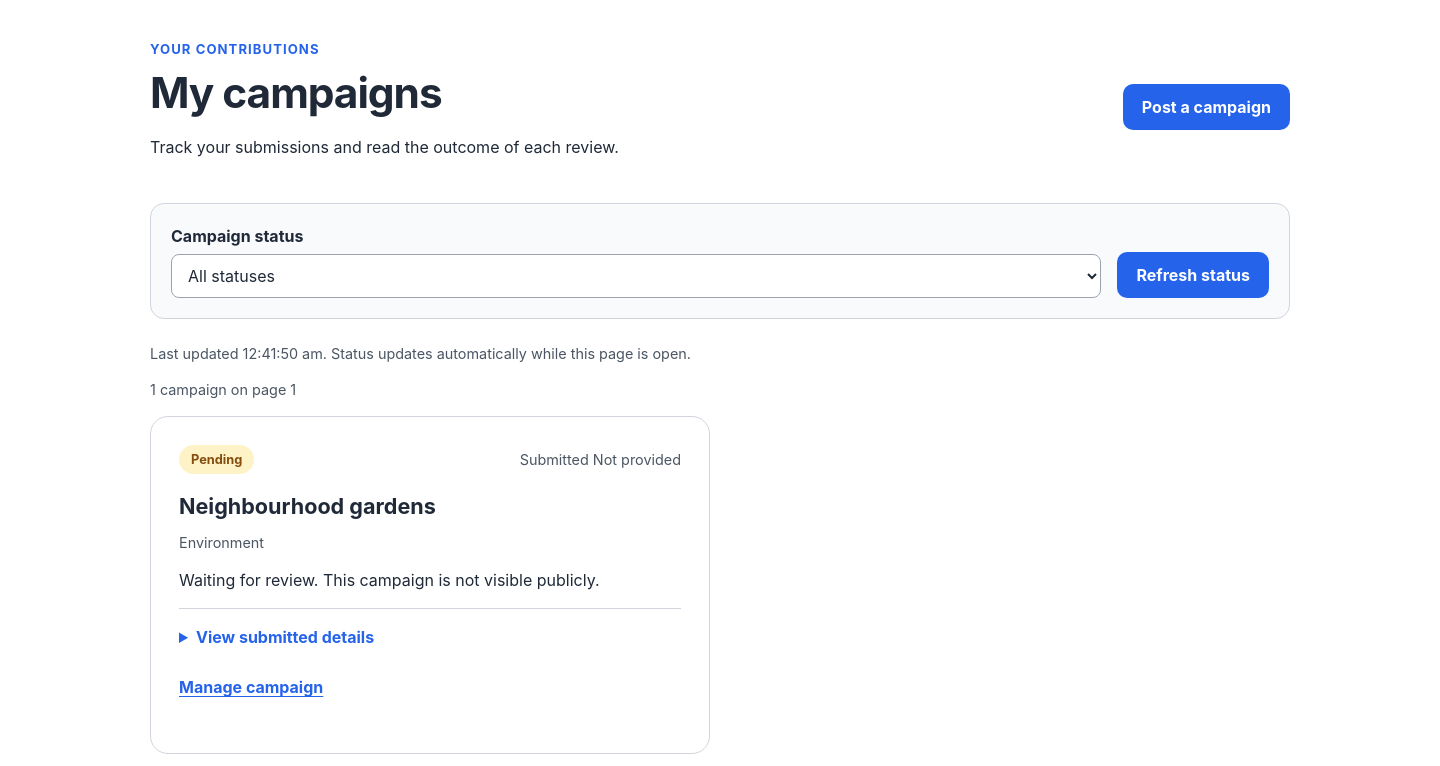
Test: owner campaign status › keeps prior campaigns during a network error but clears them on revoked access
Check: the heading "Neighbourhood gardens" is shown, box [179,493,436,519]
Click the button "Refresh status" at (1193, 275), box [1118,252,1269,298]
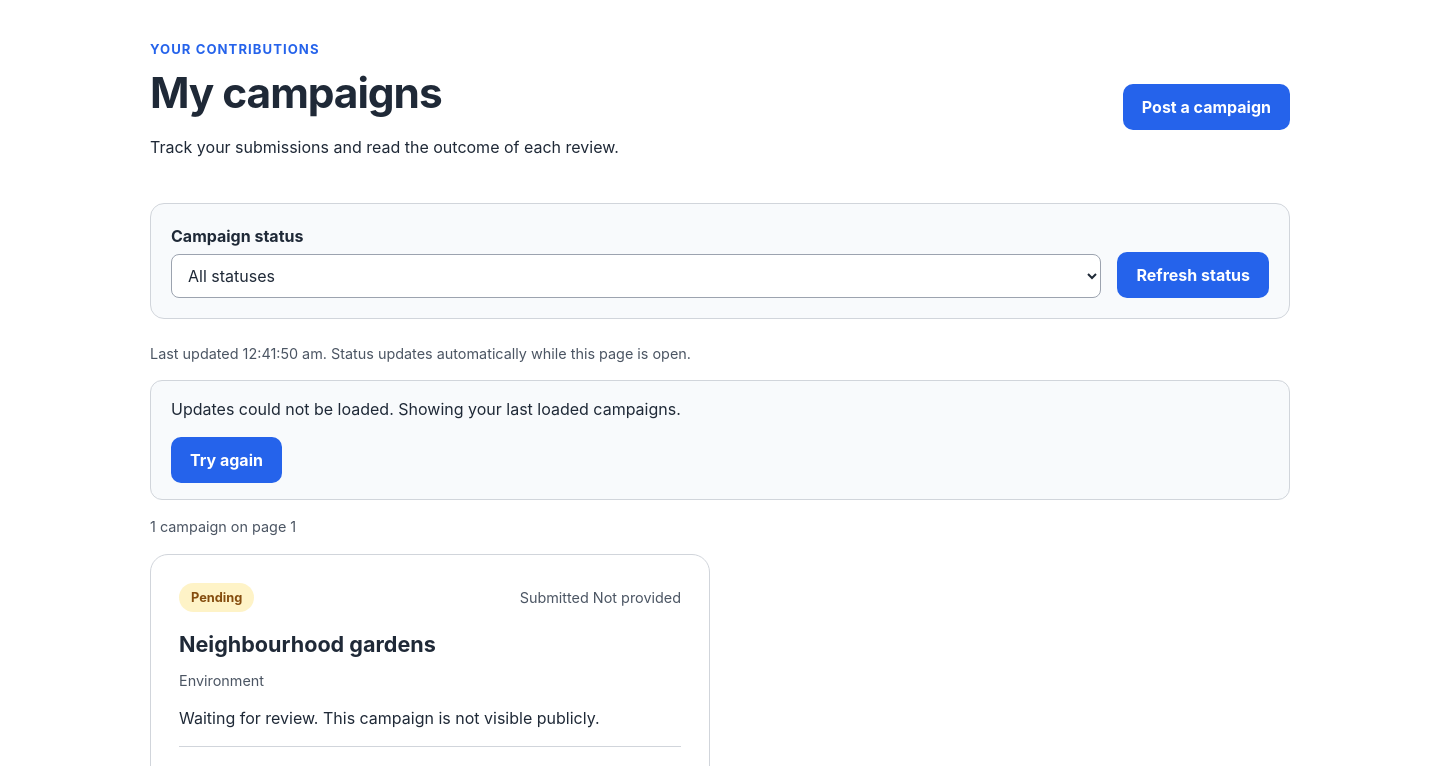
Check: the heading "Neighbourhood gardens" is shown, box [179,631,436,657]
Check: the message "Updates could not be loaded. Showing your last loaded campaigns. Try again" is shown, box [150,380,1290,500]
Click the button "Refresh status" at (1193, 275), box [1118,252,1269,298]
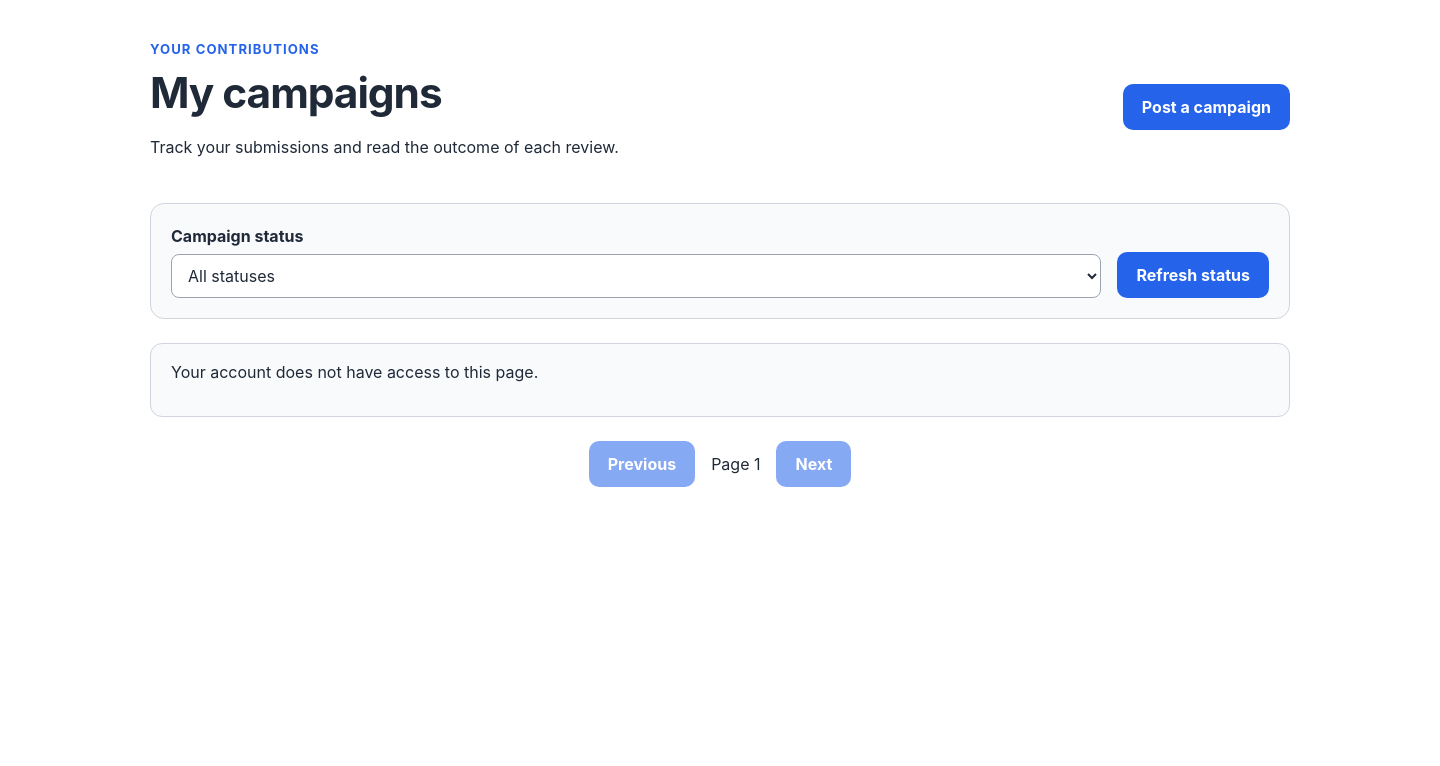
Check: the heading "Neighbourhood gardens" is gone
